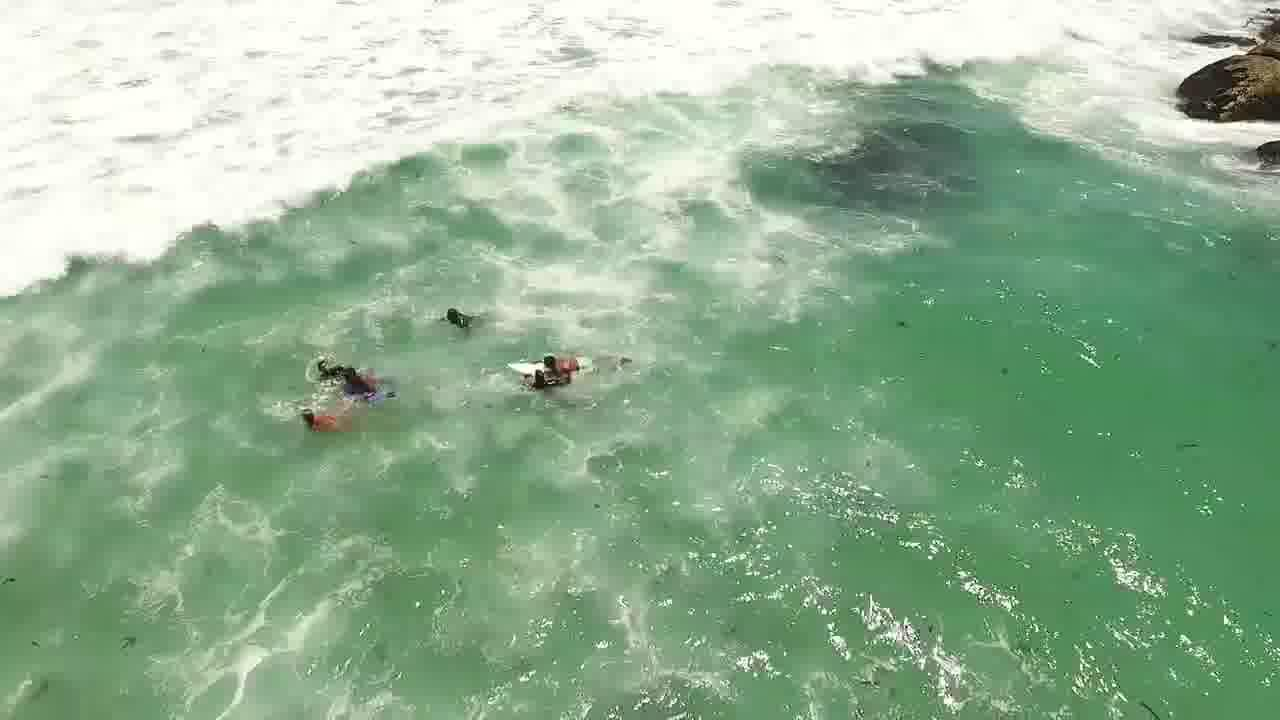human: (337, 359, 401, 409), (300, 340, 365, 387), (423, 296, 495, 338), (293, 400, 365, 437)
